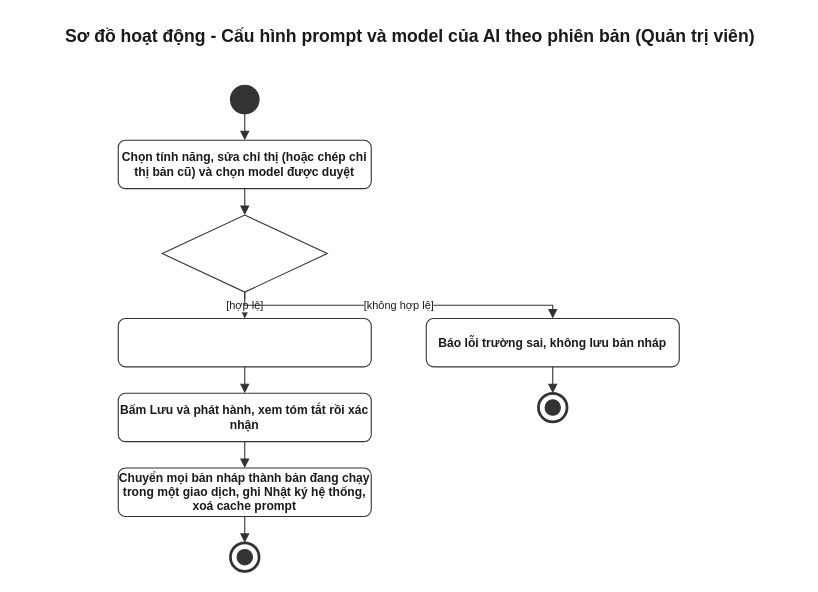
Some shapes in this 818 by 592 pixel diagram are drawn without their labels. The shapes that lost their labels are listed below. From the top down, each one's box as (x1, y1, x2, y2) in pixels, then its label:
(161, 214, 327, 292): Chỉ thị không rỗng và model hợp lệ?
(117, 317, 371, 367): Lưu vào bản nháp, bản đang chạy giữ nguyên
